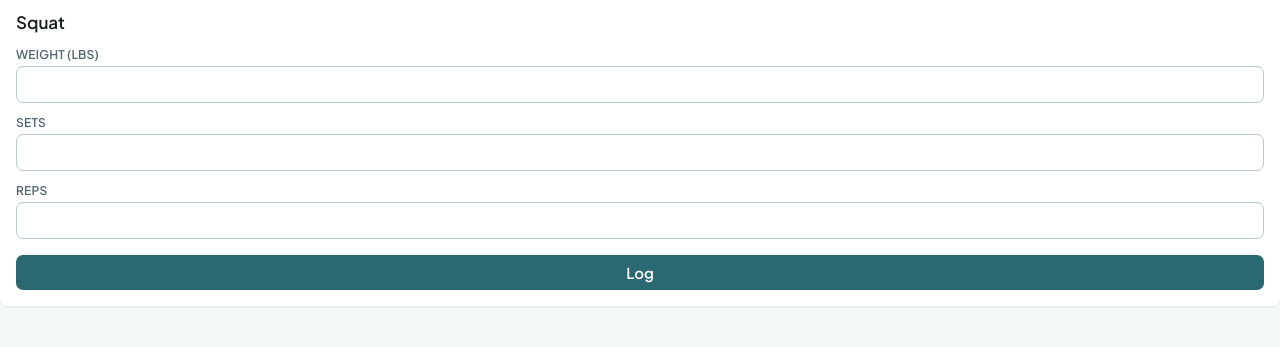
ExerciseCard › shows error banner when mutation fails
Type "100" into the number field labelled "Weight (lbs)" at {"x": 640, "y": 84}, box x1=16 y1=66 x2=1264 y2=103
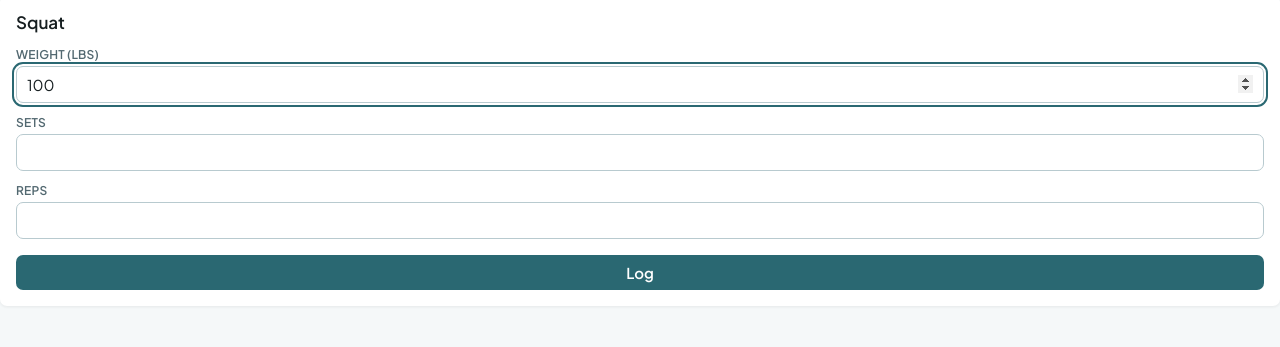
Type "3" into the number field labelled "Sets" at {"x": 640, "y": 152}, box x1=16 y1=134 x2=1264 y2=171
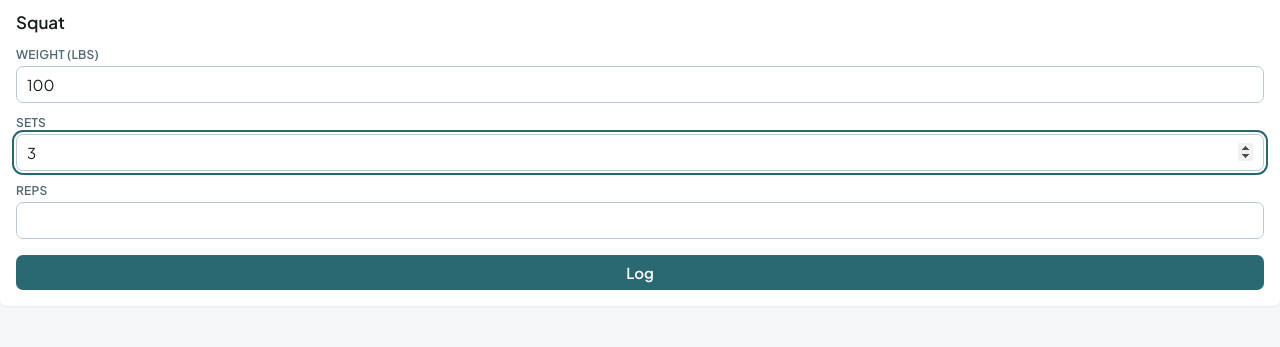
Type "5" into the number field labelled "Reps" at {"x": 640, "y": 220}, box x1=16 y1=202 x2=1264 y2=239
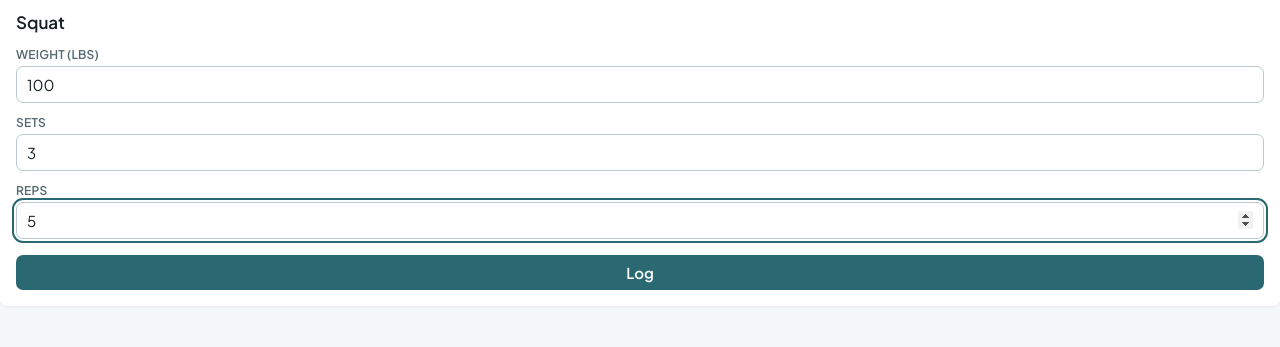
Click the button "Log" at {"x": 640, "y": 272}, box x1=16 y1=255 x2=1264 y2=290
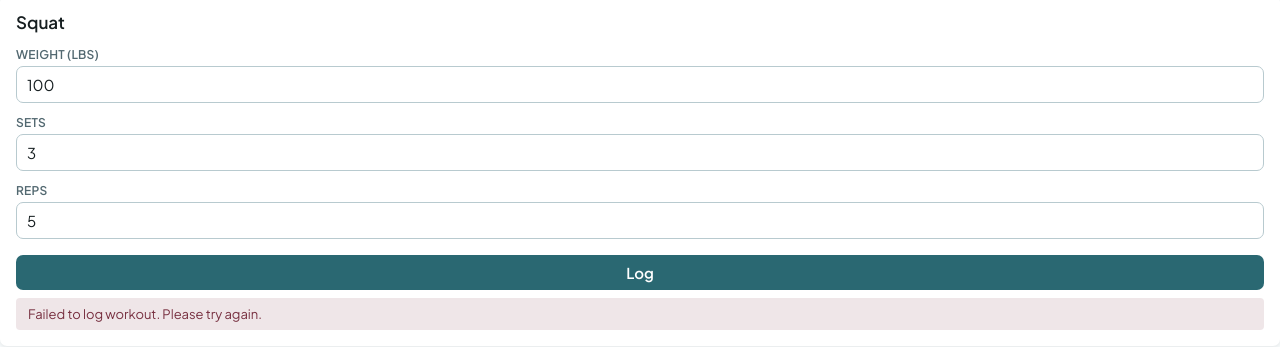
Expected: the message shows "Failed to log", x1=28 y1=306 x2=262 y2=322
